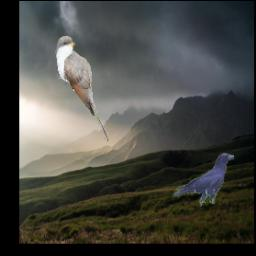Crow: (173, 154, 235, 208)
Cuckoo: (55, 36, 108, 143)
